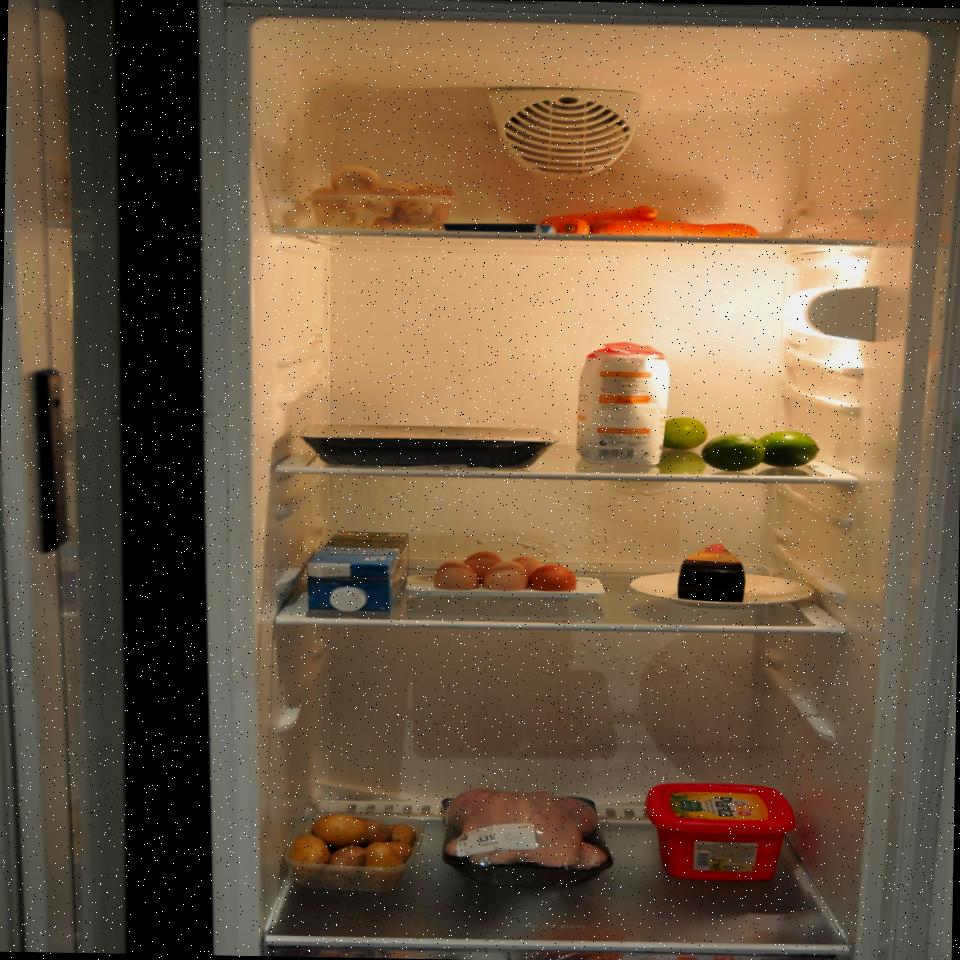Carne pollo: (437, 780, 615, 895)
Huevos: (431, 546, 583, 602)
Leche: (304, 527, 412, 616)
Mantequilla: (636, 778, 798, 884)
Queso: (673, 539, 754, 606)
Zanahoria: (534, 204, 766, 240)
